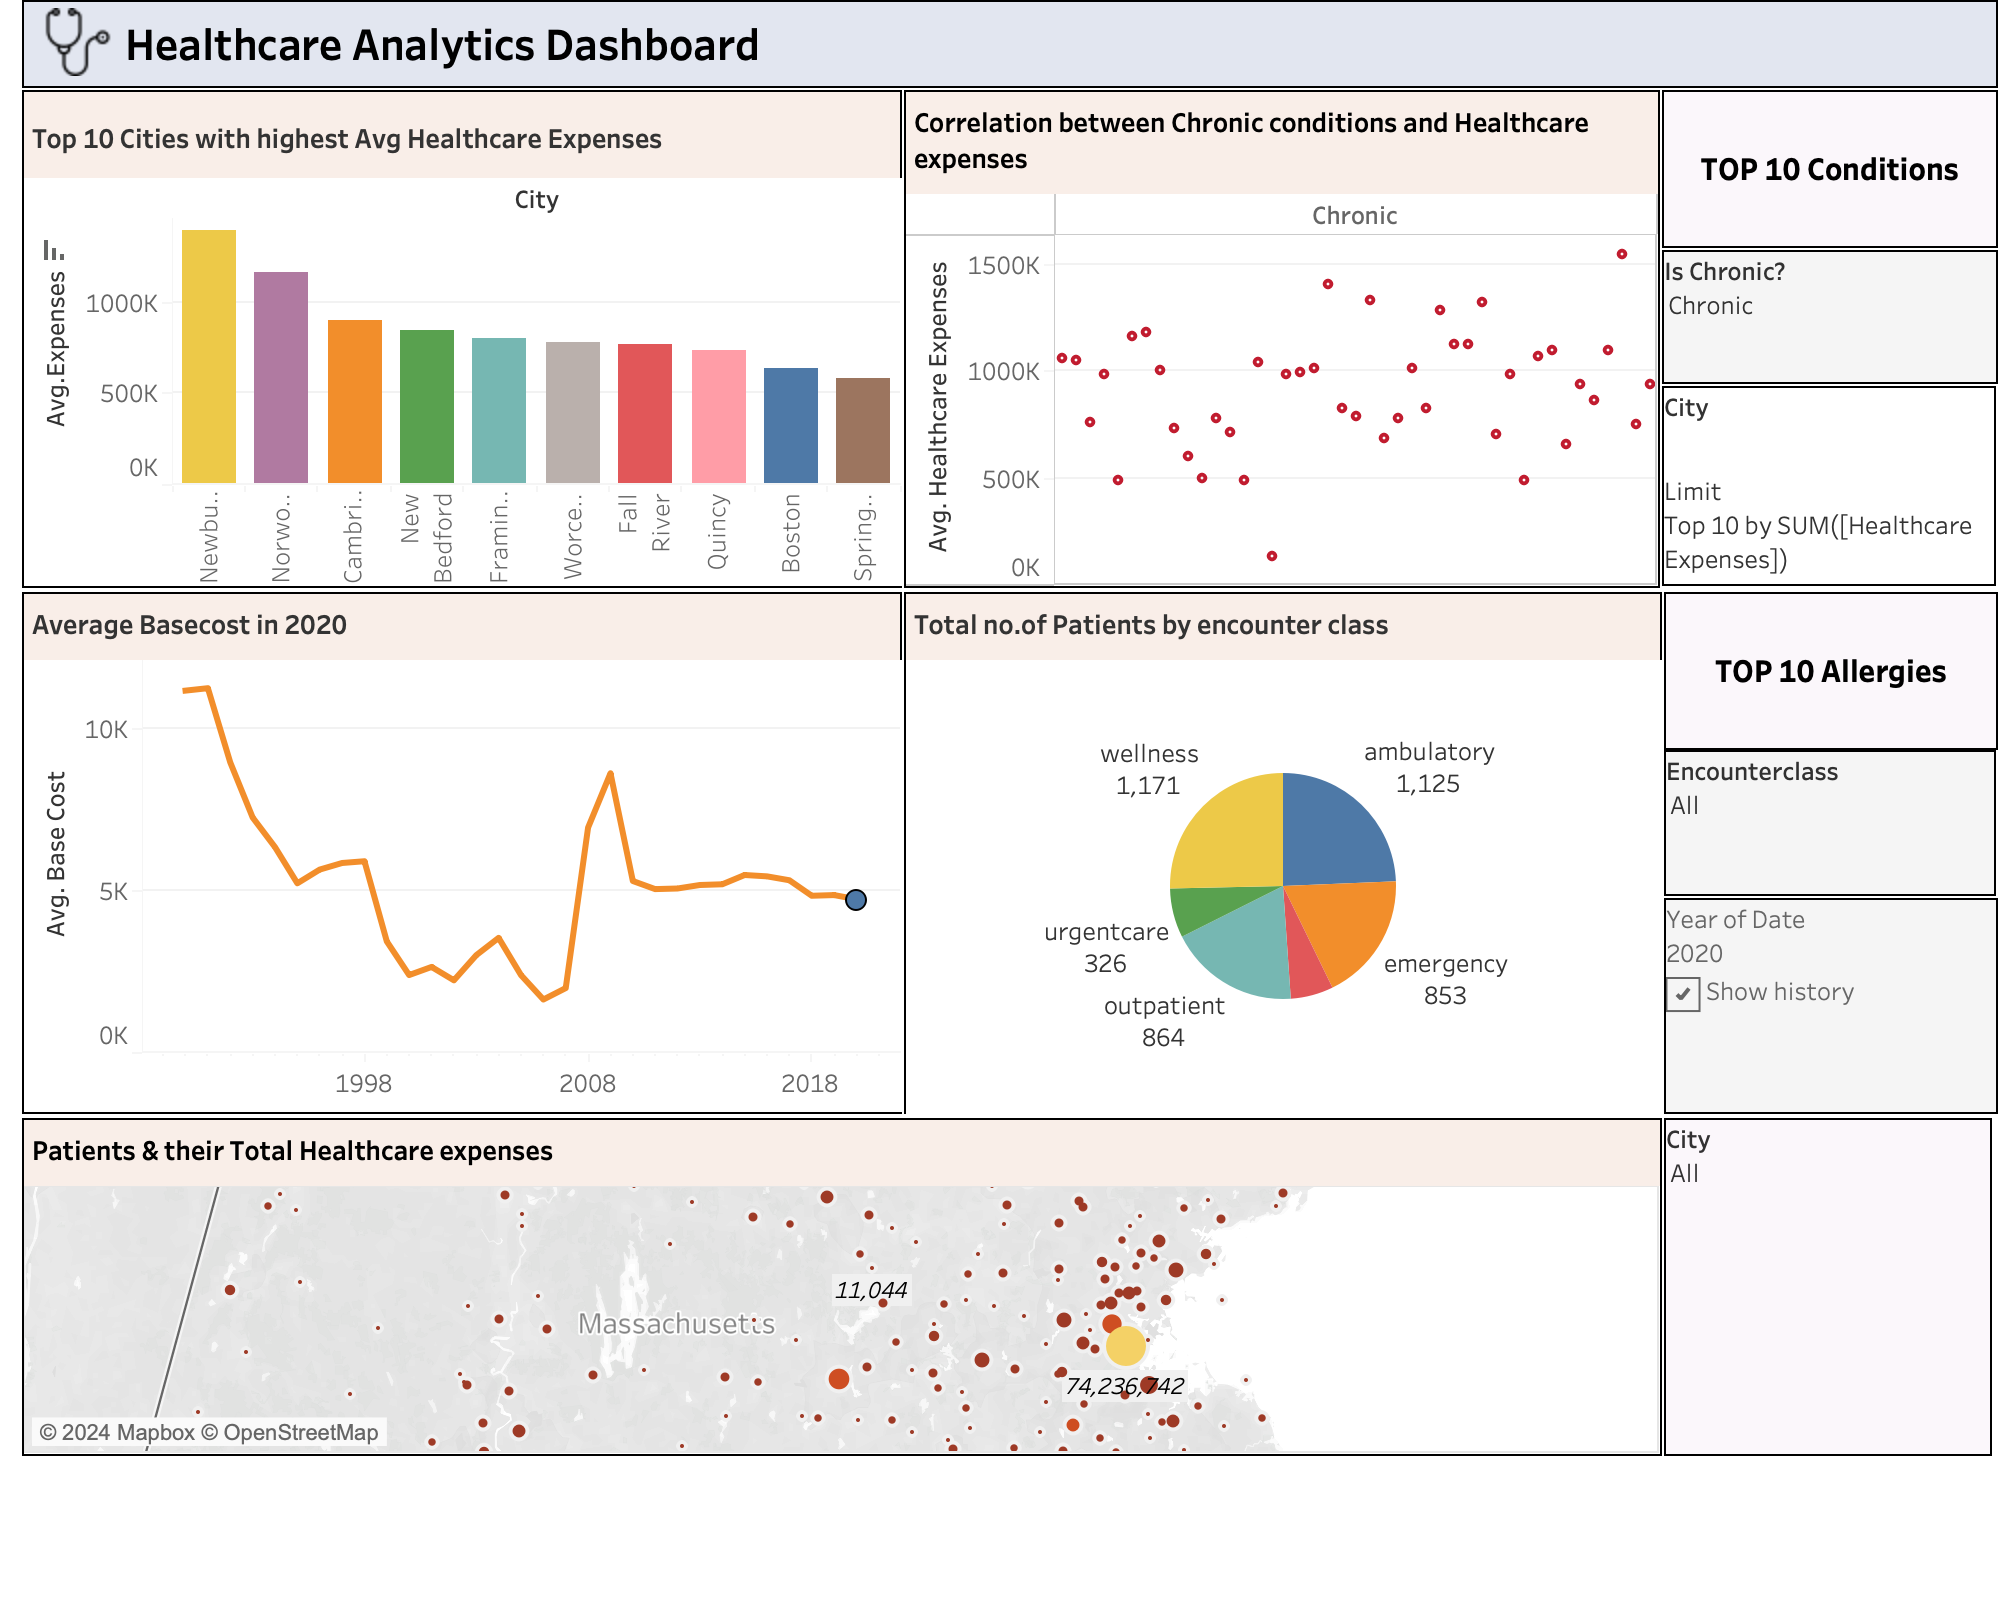

This screenshot's page, from the dashboard's own definition file:
{"tool":"tableau","page":{"name":"Dashboard 1","canvas":[1000,800],"ordinal":0},"visuals":[{"type":"text","box":[60,1,365,41]},{"type":"image","param":"Image/stethoscope.png","box":[22,4,45,34]},{"type":"worksheet","title":"Top 10 cities","mark":"Automatic","rows":["HEALTHCARE_EXPENSES"],"cols":["CITY"],"box":[11,45,440,249]},{"type":"worksheet","title":"Chronic conditions","mark":"Shape","rows":["HEALTHCARE_EXPENSES"],"cols":["Calculation_4109956929666932739","CODE (ENCOUNTERS)"],"box":[452,45,378,249]},{"type":"filter","title":"Chronic conditions","param":"[federated.0kf4cne1tpnreu13mptq818z5uv9].[none:Calculation_4109956929666932739:n","box":[831,45,167,67]},{"type":"filter","title":"Top 10 cities","param":"[federated.0kf4cne1tpnreu13mptq818z5uv9].[none:CITY:nk]","box":[831,113,167,100]},{"type":"worksheet","title":"Animation showing Basecost ","mark":"Circle","rows":["BASE_COST (PROCEDURES)"],"cols":["DATE (PROCEDURES)"],"box":[11,296,440,261]},{"type":"worksheet","title":"Encounter class","mark":"Pie","box":[452,296,379,261]},{"type":"filter","title":"Encounter class","param":"[federated.0kf4cne1tpnreu13mptq818z5uv9].[none:ENCOUNTERCLASS:nk]","box":[832,296,166,62]},{"type":"currpage","title":"Animation showing Basecost ","box":[832,359,167,108]},{"type":"worksheet","title":"Geospatial Analysis","mark":"Automatic","rows":["LAT"],"cols":["LON"],"box":[11,559,989,169]}]}

Visuals, with their boxes in screenshot pixels (x1, y1, x2, y2), scaled from the page's 1000x800 canvas onto the 2000x1600 screenshot:
text: (x1=120, y1=2, x2=850, y2=84)
image: (x1=44, y1=8, x2=134, y2=76)
"Top 10 cities" worksheet: (x1=22, y1=90, x2=902, y2=588)
"Chronic conditions" worksheet (Shape marks): (x1=904, y1=90, x2=1660, y2=588)
"Chronic conditions" filter: (x1=1662, y1=90, x2=1996, y2=224)
"Top 10 cities" filter: (x1=1662, y1=226, x2=1996, y2=426)
"Animation showing Basecost " worksheet (Circle marks): (x1=22, y1=592, x2=902, y2=1114)
"Encounter class" worksheet (Pie marks): (x1=904, y1=592, x2=1662, y2=1114)
"Encounter class" filter: (x1=1664, y1=592, x2=1996, y2=716)
"Animation showing Basecost " currpage: (x1=1664, y1=718, x2=1998, y2=934)
"Geospatial Analysis" worksheet: (x1=22, y1=1118, x2=1999, y2=1456)
